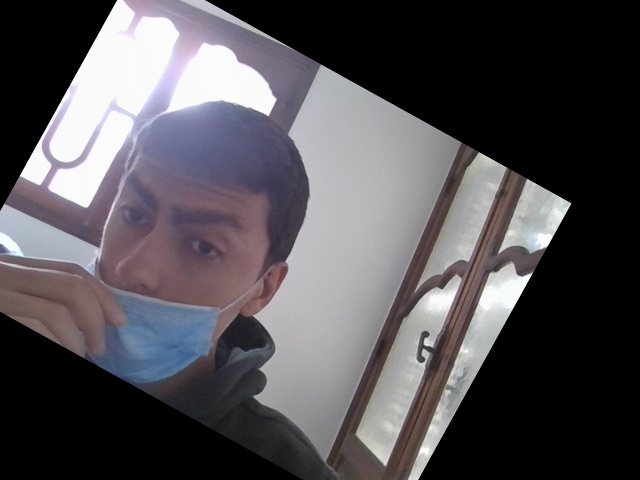mask_weared_incorrect: (83, 156, 265, 389)
